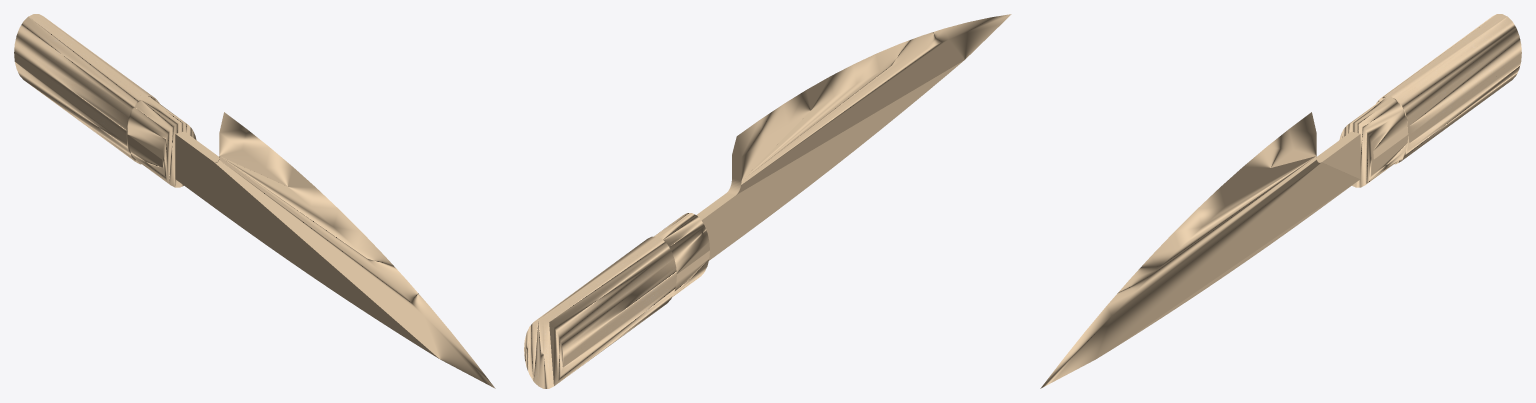
The model's file is model_align.obj.
The picture shows the model from 3 angles, left to right: view 1: azimuth 30°, elevation 25°; view 2: azimuth 150°, elevation 25°; view 3: azimuth 330°, elevation 25°; orthographic projection.
Size of the model in its own units: 0.0113 by 0.0303 by 0.2313.
Materials: 3 (3 with a texture image).
